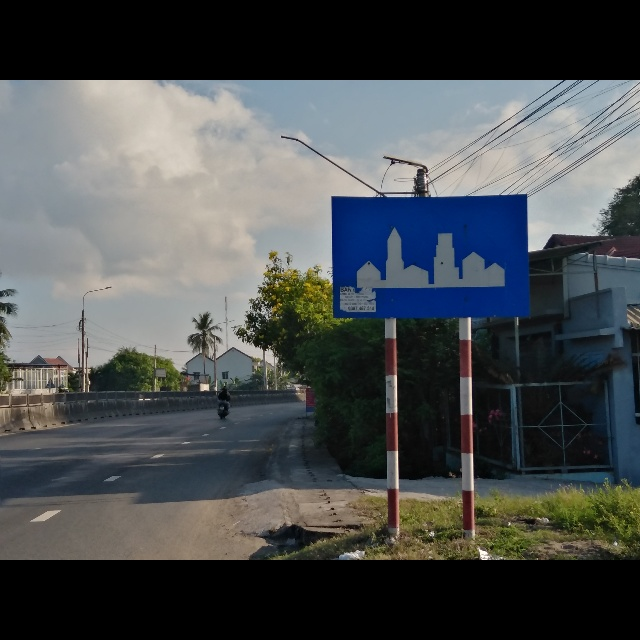Khu đông dân cư: (328, 191, 532, 321)
